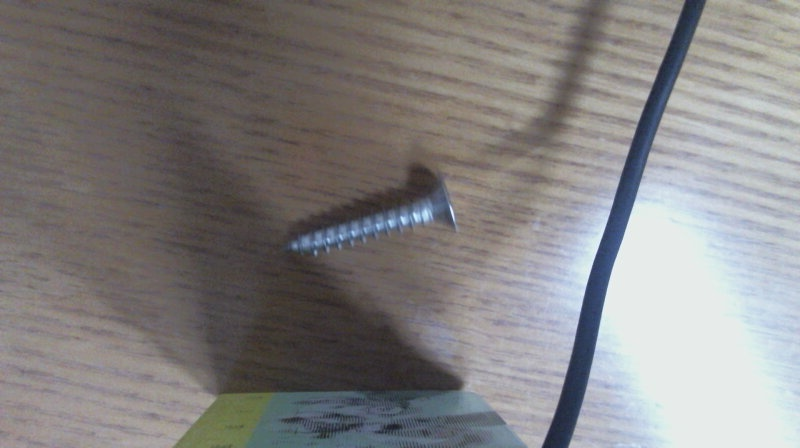S001: (275, 174, 464, 262)
